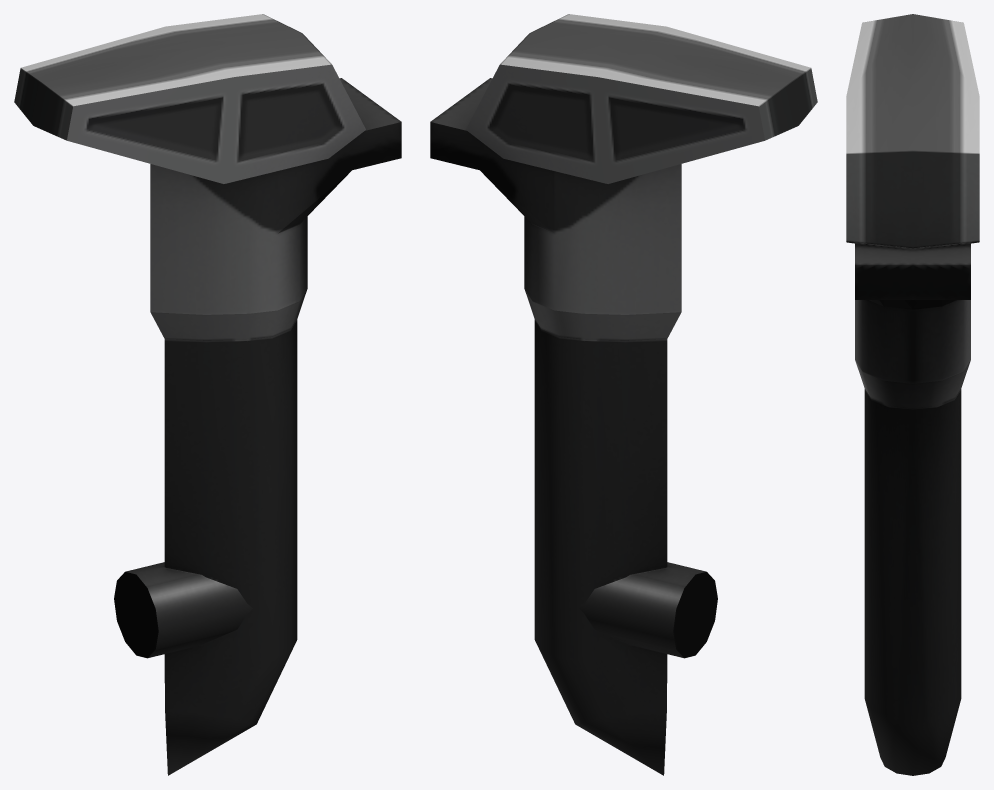
The model's file is engine.glb.
The picture shows the model from 3 angles, left to right: view 1: azimuth 30°, elevation 25°; view 2: azimuth 150°, elevation 25°; view 3: azimuth 270°, elevation 25°; orthographic projection. The views are drawn at different scales.
Parts seen in each view (by area): view 1: Engine_Left; view 2: Engine_Left; view 3: Engine_Left.
Boxes of the visible parts, x1,y1,x2,y2 form: Engine_Left: [14, 14, 401, 775]; Engine_Left: [430, 14, 817, 775]; Engine_Left: [846, 14, 979, 775].
Bounding box in the file's own units: 0.443 × 0.9065 × 0.1566.
1 material, 1 textured.
